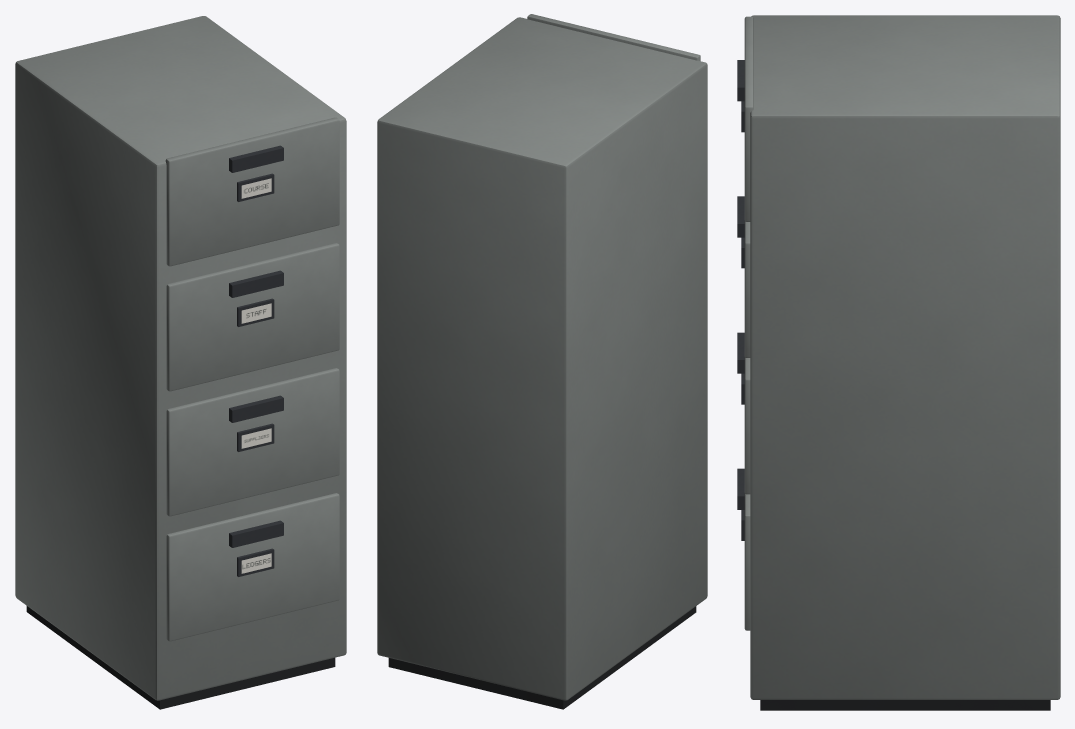
Rendered from filing_cabinet.glb.
3 renders of one model, left to right at view 1: azimuth 30°, elevation 25°; view 2: azimuth 150°, elevation 25°; view 3: azimuth 270°, elevation 25°, orthographic. The views are drawn at different scales.
Visible parts, largest first — view 1: Body, Drawer_04, Drawer_01, Drawer_03, Drawer_02, Plinth, Pull_01, Pull_02, Pull_03, Pull_04; view 2: Body, Plinth, Drawer_04; view 3: Body, Plinth, Drawer_04, Drawer_01, Drawer_02, Drawer_03.
Boxes of the visible parts, x1=… form: Body: x1=15, y1=16, x2=346, y2=700; Drawer_04: x1=165, y1=117, x2=339, y2=266; Drawer_01: x1=166, y1=493, x2=339, y2=641; Drawer_03: x1=166, y1=243, x2=339, y2=391; Drawer_02: x1=166, y1=368, x2=339, y2=516; Plinth: x1=26, y1=606, x2=335, y2=709; Pull_01: x1=229, y1=520, x2=283, y2=547; Pull_02: x1=229, y1=395, x2=283, y2=422; Pull_03: x1=229, y1=270, x2=283, y2=297; Pull_04: x1=229, y1=145, x2=283, y2=172; Body: x1=377, y1=17, x2=707, y2=700; Plinth: x1=388, y1=606, x2=696, y2=709; Drawer_04: x1=527, y1=14, x2=700, y2=61; Body: x1=750, y1=15, x2=1060, y2=699; Plinth: x1=760, y1=700, x2=1050, y2=710; Drawer_04: x1=744, y1=16, x2=753, y2=221; Drawer_01: x1=744, y1=493, x2=750, y2=630; Drawer_02: x1=744, y1=357, x2=750, y2=494; Drawer_03: x1=744, y1=220, x2=750, y2=357.
Size of the model in its own units: 0.48 by 1.33 by 0.646.
Materials: 8 (7 with a texture image).
